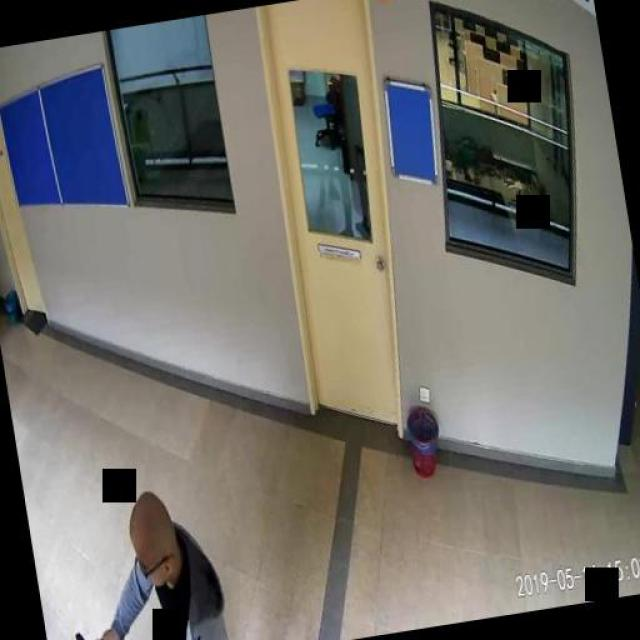gun: (72, 621, 111, 640)
